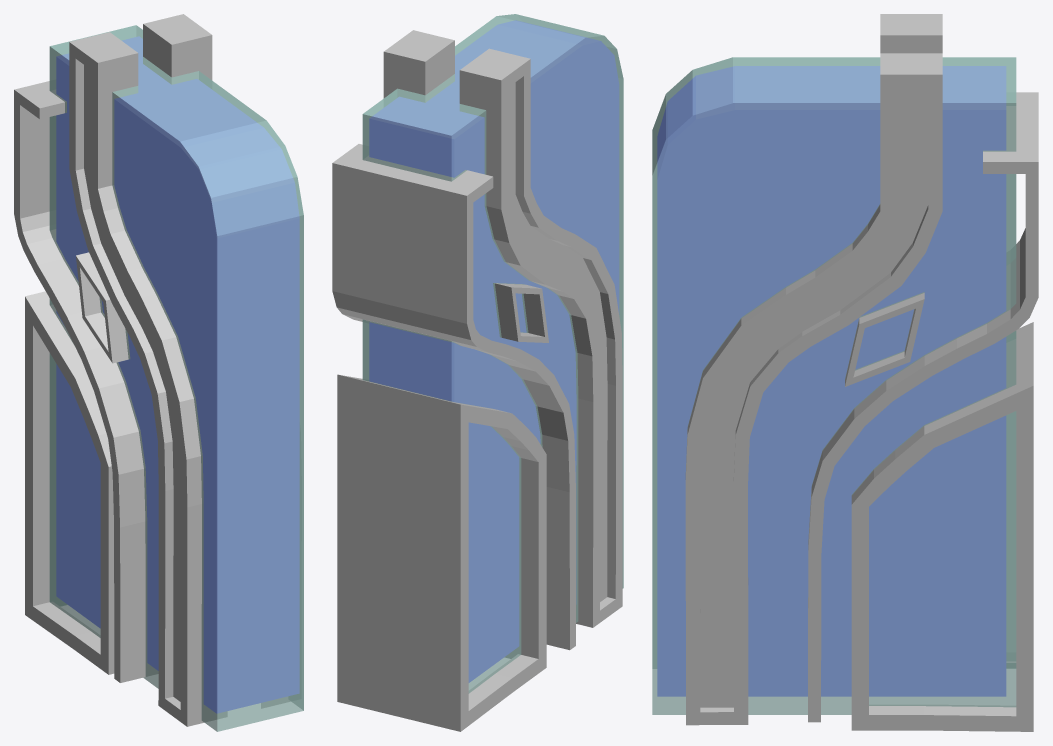
File: batata, predio facebook, capacitores_tex-1.fbx
3 renders of one model, left to right at view 1: azimuth 30°, elevation 25°; view 2: azimuth 150°, elevation 25°; view 3: azimuth 270°, elevation 25°, orthographic. The views are drawn at different scales.
Visible parts, largest first — view 1: Cube; view 2: Cube; view 3: Cube.
Part boxes in pixels (box(x1,y1,x2,y2)): Cube: box(14, 14, 303, 731); Cube: box(332, 14, 623, 731); Cube: box(652, 14, 1038, 731).
Size of the model in its own units: 303 by 1331 by 711.
